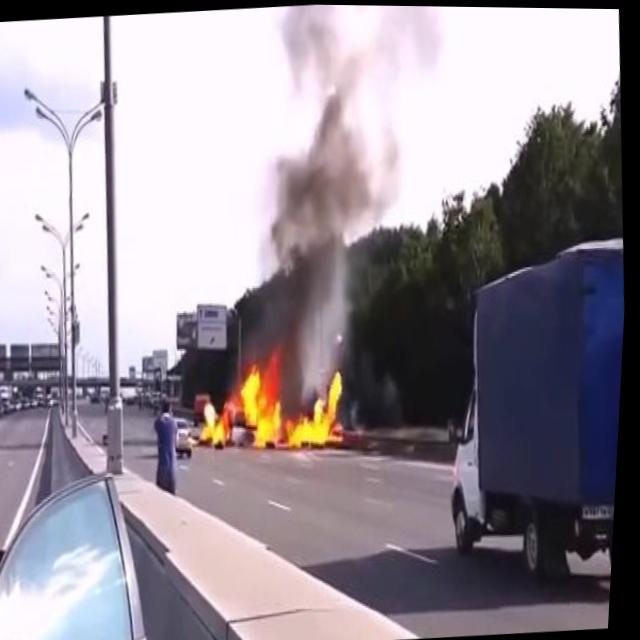fire: (237, 346, 357, 460), (196, 392, 236, 449)
